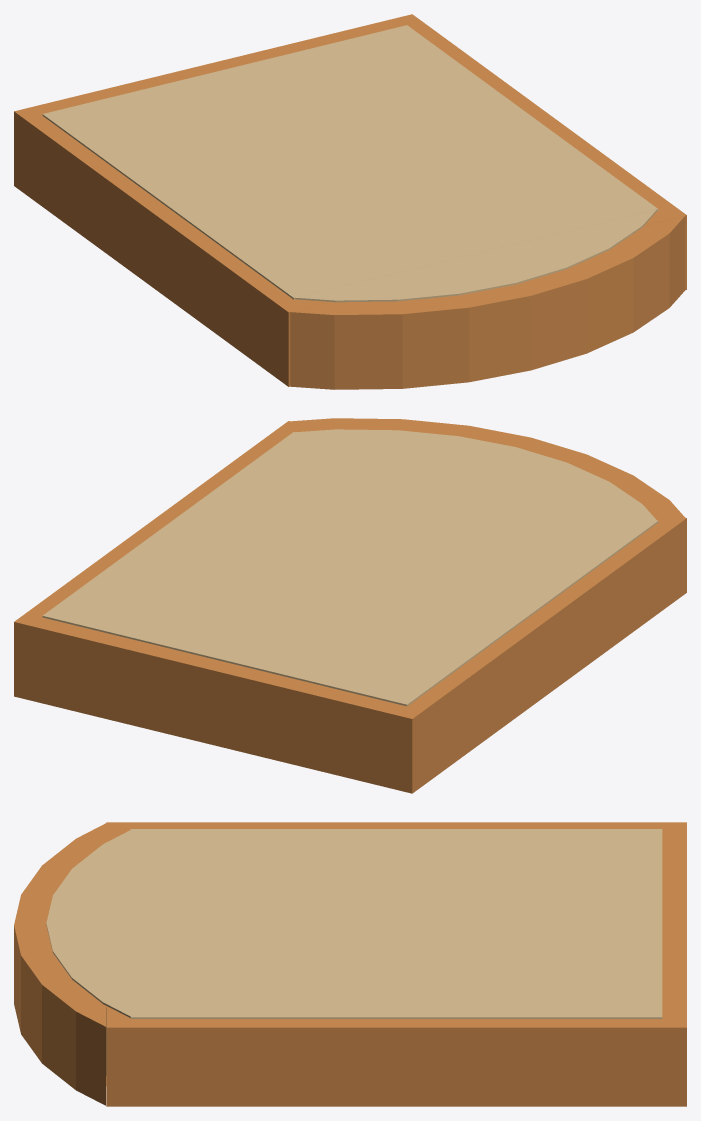
3 renders of one model, top to bottom at view 1: azimuth 30°, elevation 25°; view 2: azimuth 150°, elevation 25°; view 3: azimuth 270°, elevation 25°, orthographic. The views are drawn at different scales.
Parts seen in each view (by area): view 1: パン; view 2: パン; view 3: パン.
Part boxes in pixels (x1,y1,x2,y2): パン: (14, 14, 686, 389); パン: (14, 418, 686, 793); パン: (14, 822, 686, 1106).
Bounding box in the file's own units: 3.35 × 0.6142 × 4.63.
